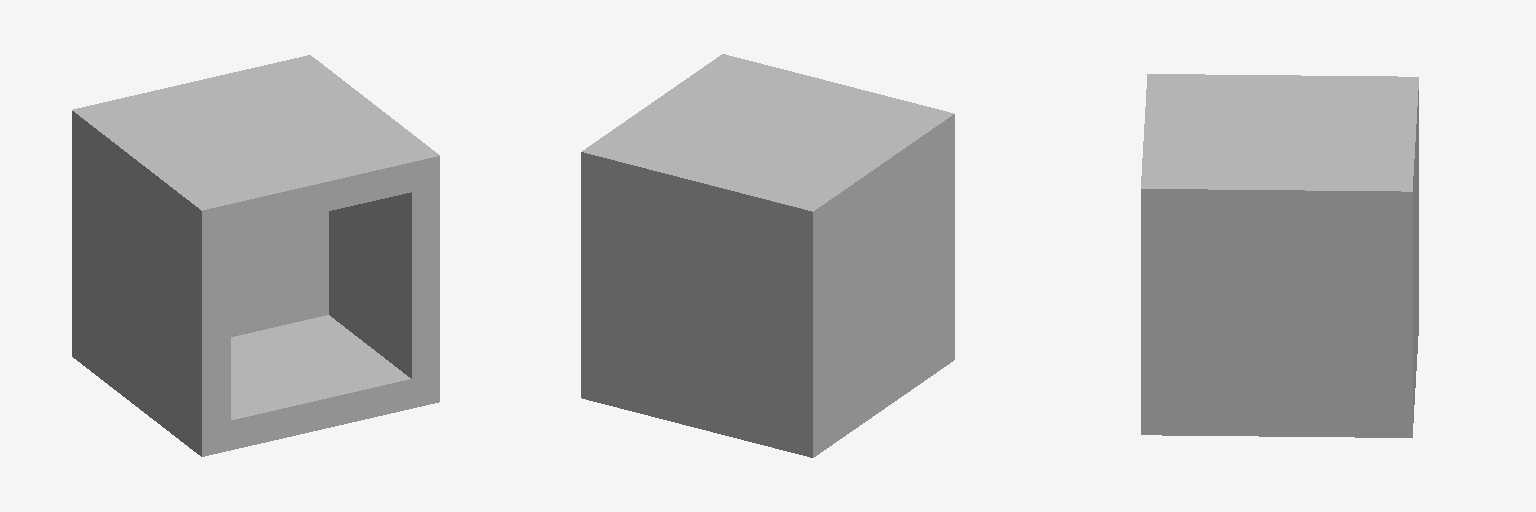
File: room.obj
3 views of the same model, side by side, from view 1: azimuth 30°, elevation 25°; view 2: azimuth 150°, elevation 25°; view 3: azimuth 270°, elevation 25° (orthographic).
Visible parts, largest first — view 1: Cube.001_Cube.005; view 2: Cube.001_Cube.005; view 3: Cube.001_Cube.005.
Boxes of the visible parts, x1=… form: Cube.001_Cube.005: x1=72, y1=55, x2=439, y2=456; Cube.001_Cube.005: x1=581, y1=54, x2=954, y2=457; Cube.001_Cube.005: x1=1141, y1=74, x2=1418, y2=437.
Size of the model in its own units: 1.33 by 1.3 by 1.33.